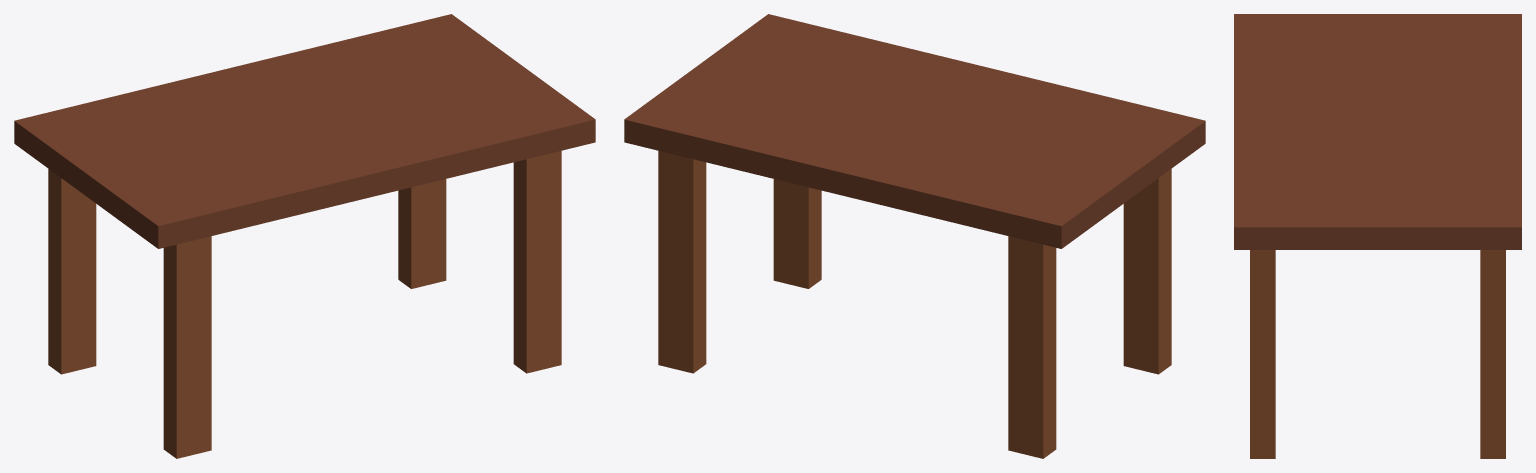
File: table_plank.glb
3 views of the same model, side by side, from view 1: azimuth 30°, elevation 25°; view 2: azimuth 150°, elevation 25°; view 3: azimuth 270°, elevation 25° (orthographic).
Size of the model in its own units: 1.4 by 0.7481 by 0.7981.
Materials: 1 (1 with a texture image).
